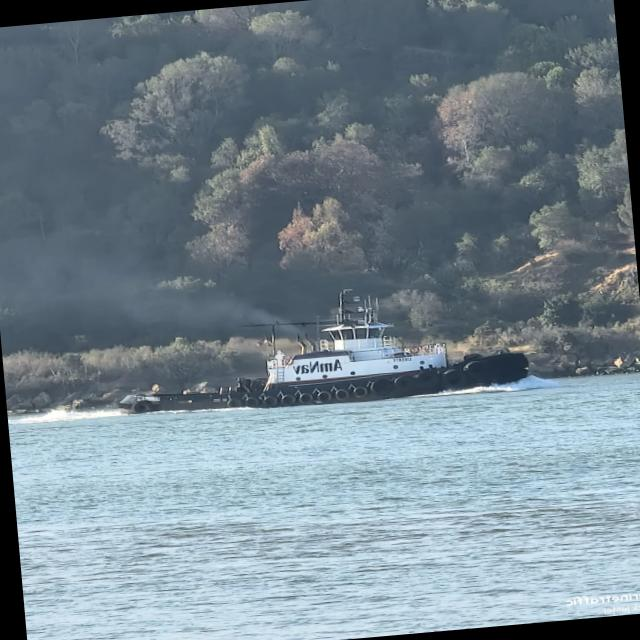Tug: (121, 289, 529, 413)
